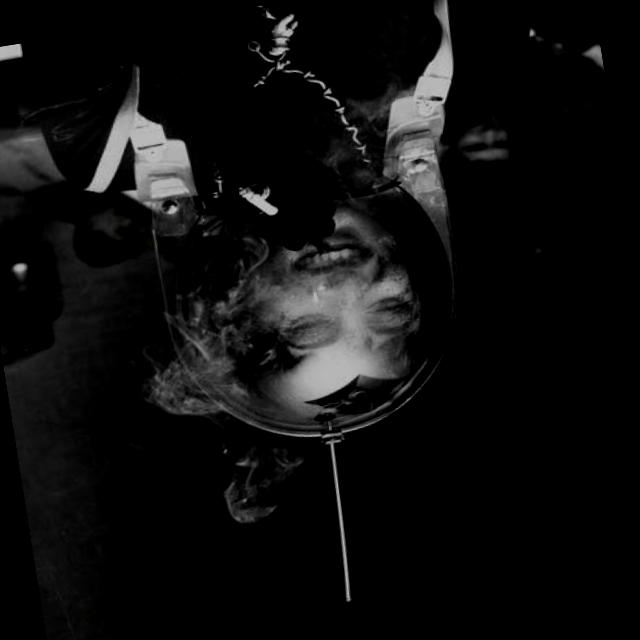smoke: (214, 167, 290, 235)
